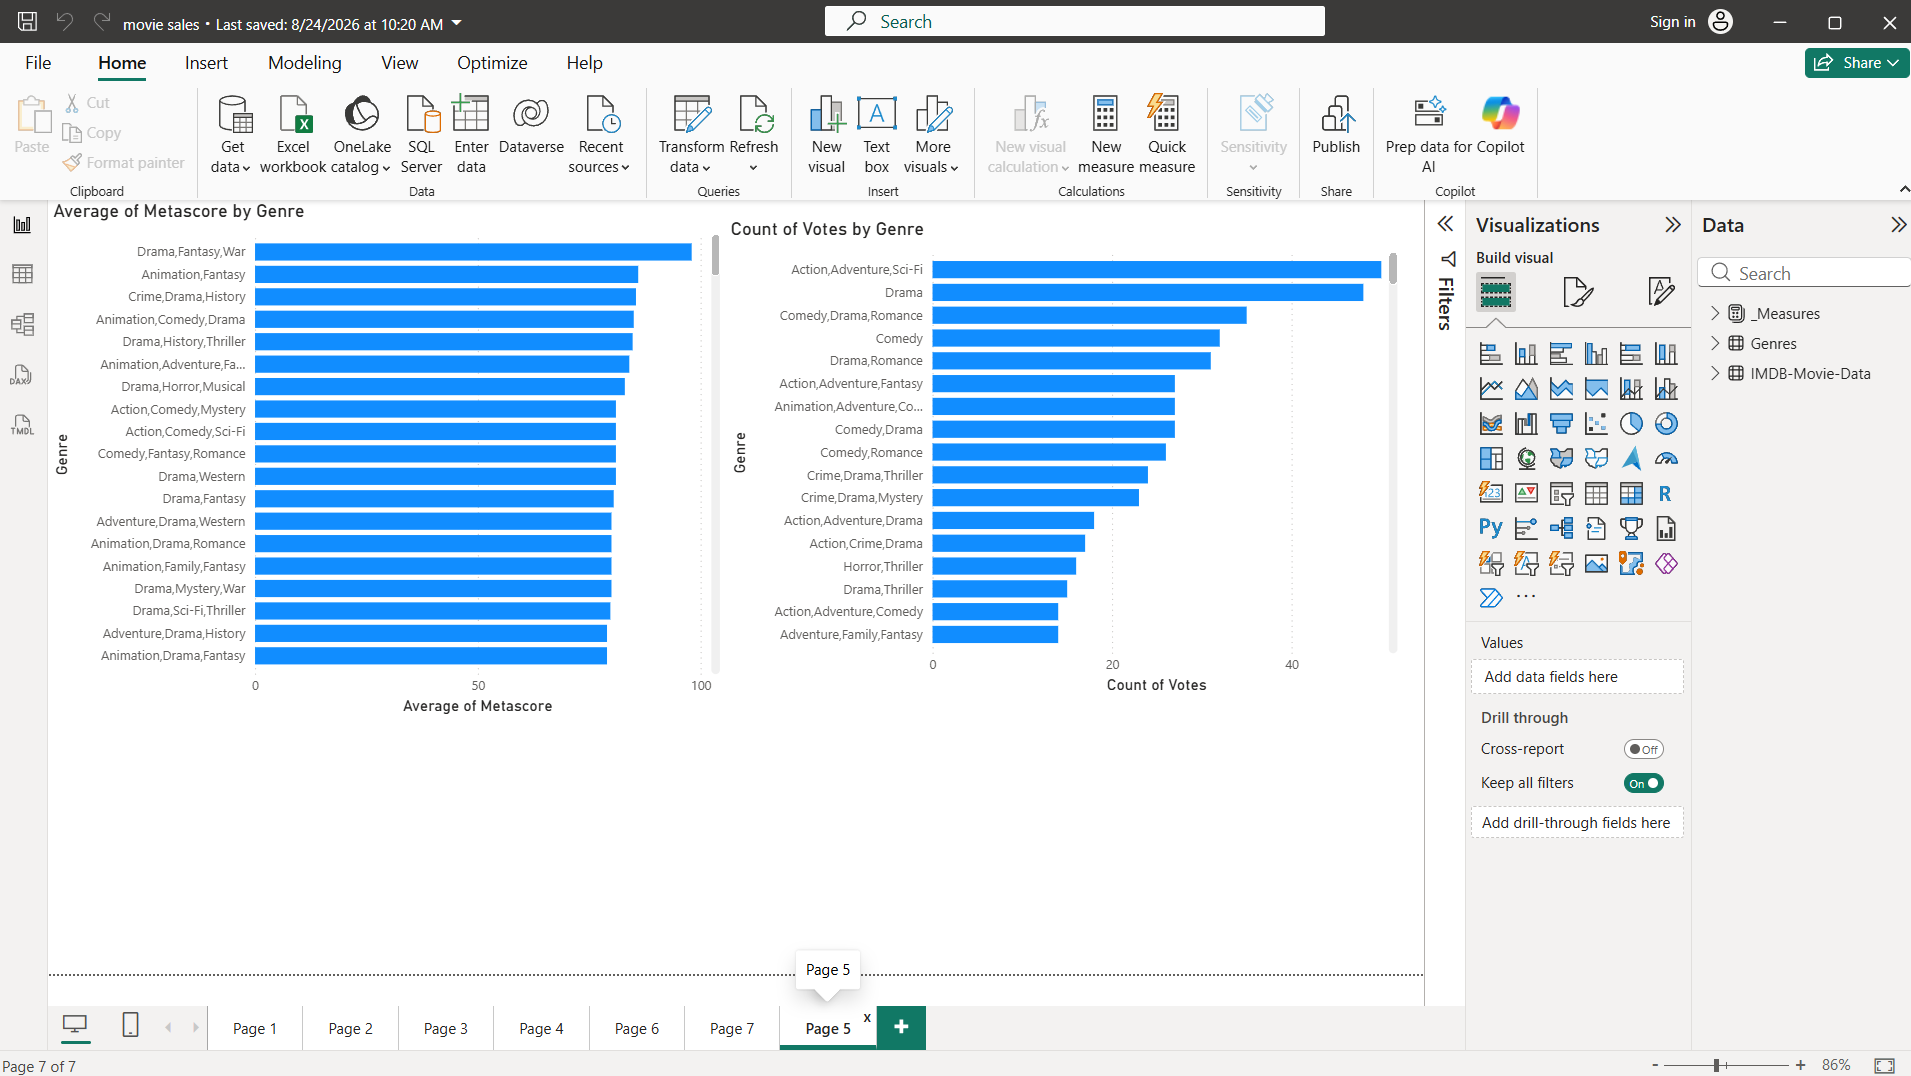

What the dashboard file says about the page in this screenshot:
{"tool":"powerbi","page":{"name":"Page 5","canvas":[1280,720],"ordinal":6},"visuals":[{"type":"clusteredBarChart","fields":{"Category":["IMDB-Movie-Data.Genre"],"Y":["Avg(IMDB-Movie-Data.Metascore)"]},"box":[0,0,630.3,484.1],"z":0},{"type":"clusteredBarChart","fields":{"Category":["IMDB-Movie-Data.Genre"],"Y":["CountNonNull(IMDB-Movie-Data.Votes)"]},"box":[630.3,16.2,630.3,448.3],"z":1000}]}

Visuals, with their boxes on the page's 1280x720 design canvas (x1, y1, x2, y2). These are canvas units, not pixel positions in the 1911x1076 screenshot, which may show the page scaled, cropped or inside an application window:
clusteredBarChart - IMDB-Movie-Data.Genre x Avg(IMDB-Movie-Data.Metascore): [x1=0, y1=0, x2=630, y2=484]
clusteredBarChart - IMDB-Movie-Data.Genre x CountNonNull(IMDB-Movie-Data.Votes): [x1=630, y1=16, x2=1261, y2=464]
